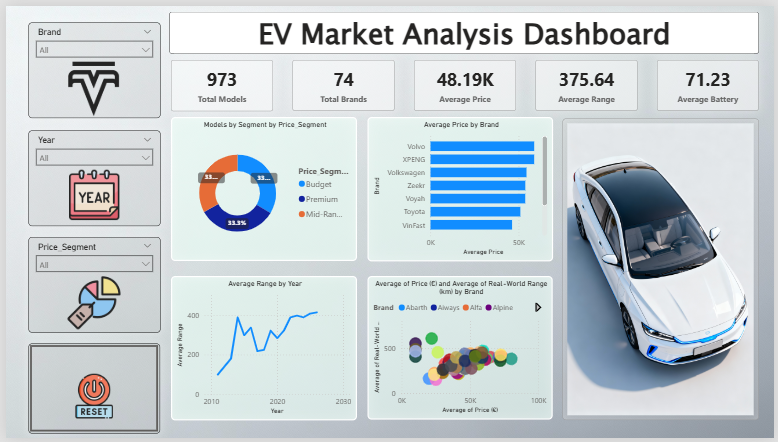

What the dashboard file says about the page in this screenshot:
{"tool":"powerbi","page":{"name":"EV Analytics Overview","canvas":[1280,720],"ordinal":0},"visuals":[{"type":"card","fields":{"Values":["EV_Data_EDA_Ready.Total Models"]},"box":[274.4,89.3,170,85],"z":0},{"type":"card","fields":{"Values":["EV_Data_EDA_Ready.Total Brands"]},"box":[476.9,89.4,170,84.8],"z":1000},{"type":"card","fields":{"Values":["EV_Data_EDA_Ready.Average Price"]},"box":[679.3,89.4,170,84.8],"z":2000},{"type":"card","fields":{"Values":["EV_Data_EDA_Ready.Average Range"]},"box":[881.7,89.4,170,84.8],"z":3000},{"type":"card","fields":{"Values":["EV_Data_EDA_Ready.Average Battery"]},"box":[1084.2,89.4,169.6,84.8],"z":4000},{"type":"donutChart","fields":{"Category":["EV_Data_EDA_Ready.Price_Segment"],"Y":["EV_Data_EDA_Ready.Models by Segment"]},"box":[274.4,184.1,310.1,240],"z":5000},{"type":"barChart","fields":{"Category":["EV_Data_EDA_Ready.Brand"],"Y":["EV_Data_EDA_Ready.Average Price"]},"box":[601.9,184.4,309.3,240.8],"z":6000},{"type":"lineChart","fields":{"Category":["EV_Data_EDA_Ready.Year"],"Y":["EV_Data_EDA_Ready.Average Range"]},"box":[274.4,449,310.1,240.6],"z":7000},{"type":"image","box":[78.6,86.5,137.1,101.2],"z":8000},{"type":"image","box":[95.4,444,103.4,98.9],"z":9000},{"type":"image","box":[95.4,268.6,103.4,94.4],"z":10000},{"type":"image","box":[74.7,606.4,144.3,85],"z":11000},{"type":"textbox","title":"EV Market Analysis Dashboard","box":[272.6,8.9,981.8,69.5],"z":12000},{"type":"scatterChart","fields":{"X":["Avg(EV_Data_EDA_Ready.Price (€))"],"Y":["Avg(EV_Data_EDA_Ready.Real-World Range (km))"],"Series":["EV_Data_EDA_Ready.Brand"]},"box":[602.7,451.2,308.9,239.2],"z":13000},{"type":"image","box":[926.7,187.8,327.1,502.7],"z":14000},{"type":"slicer","fields":{"Values":["EV_Data_EDA_Ready.Price_Segment"]},"box":[37.4,385.7,220.3,159],"z":15000},{"type":"slicer","fields":{"Values":["EV_Data_EDA_Ready.Year"]},"box":[37.4,207.1,220.3,159],"z":16000},{"type":"slicer","title":"Brand","fields":{"Values":["EV_Data_EDA_Ready.Brand"]},"box":[37.4,28.5,220.3,159],"z":17000},{"type":"actionButton","title":"Reset Filters","box":[38.1,562.5,219.2,150],"z":18000}]}

Visuals, with their boxes in screenshot pixels (x1, y1, x2, y2), scaled from the page's 1280x720 canvas onto the 778x442 screenshot:
card - EV_Data_EDA_Ready.Total Models: <bbox>167, 55, 270, 107</bbox>
card - EV_Data_EDA_Ready.Total Brands: <bbox>290, 55, 393, 107</bbox>
card - EV_Data_EDA_Ready.Average Price: <bbox>413, 55, 516, 107</bbox>
card - EV_Data_EDA_Ready.Average Range: <bbox>536, 55, 639, 107</bbox>
card - EV_Data_EDA_Ready.Average Battery: <bbox>659, 55, 762, 107</bbox>
donutChart - EV_Data_EDA_Ready.Price_Segment x EV_Data_EDA_Ready.Models by Segment: <bbox>167, 113, 355, 260</bbox>
barChart - EV_Data_EDA_Ready.Brand x EV_Data_EDA_Ready.Average Price: <bbox>366, 113, 554, 261</bbox>
lineChart - EV_Data_EDA_Ready.Year x EV_Data_EDA_Ready.Average Range: <bbox>167, 276, 355, 423</bbox>
image: <bbox>48, 53, 131, 115</bbox>
image: <bbox>58, 273, 121, 333</bbox>
image: <bbox>58, 165, 121, 223</bbox>
image: <bbox>45, 372, 133, 424</bbox>
"EV Market Analysis Dashboard" textbox: <bbox>166, 5, 762, 48</bbox>
scatterChart - Avg(EV_Data_EDA_Ready.Price (€)) x Avg(EV_Data_EDA_Ready.Real-World Range (km)): <bbox>366, 277, 554, 424</bbox>
image: <bbox>563, 115, 762, 424</bbox>
slicer - EV_Data_EDA_Ready.Price_Segment: <bbox>23, 237, 157, 334</bbox>
slicer - EV_Data_EDA_Ready.Year: <bbox>23, 127, 157, 225</bbox>
"Brand" slicer: <bbox>23, 17, 157, 115</bbox>
"Reset Filters" actionButton: <bbox>23, 345, 156, 437</bbox>
